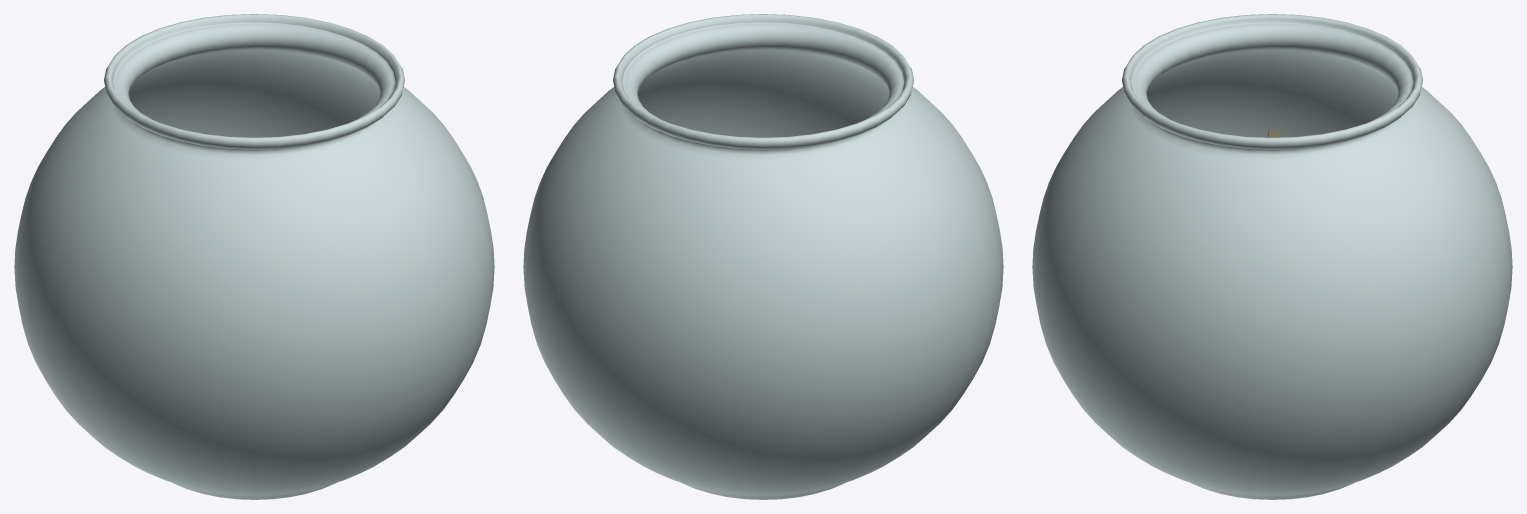
File: fish_bowl.glb
The picture shows the model from 3 angles, left to right: view 1: azimuth 30°, elevation 25°; view 2: azimuth 150°, elevation 25°; view 3: azimuth 270°, elevation 25°; orthographic projection.
Parts seen in each view (by area): view 1: 12985_Fish_bowl_v1_l1; view 2: 12985_Fish_bowl_v1_l1; view 3: 12985_Fish_bowl_v1_l1.
Part boxes in pixels (x1=…): 12985_Fish_bowl_v1_l1: x1=14, y1=14, x2=494, y2=499; 12985_Fish_bowl_v1_l1: x1=523, y1=14, x2=1003, y2=499; 12985_Fish_bowl_v1_l1: x1=1032, y1=14, x2=1512, y2=499.
Size of the model in its own units: 17.7 by 15.57 by 17.7.
3 materials, 2 textured.
